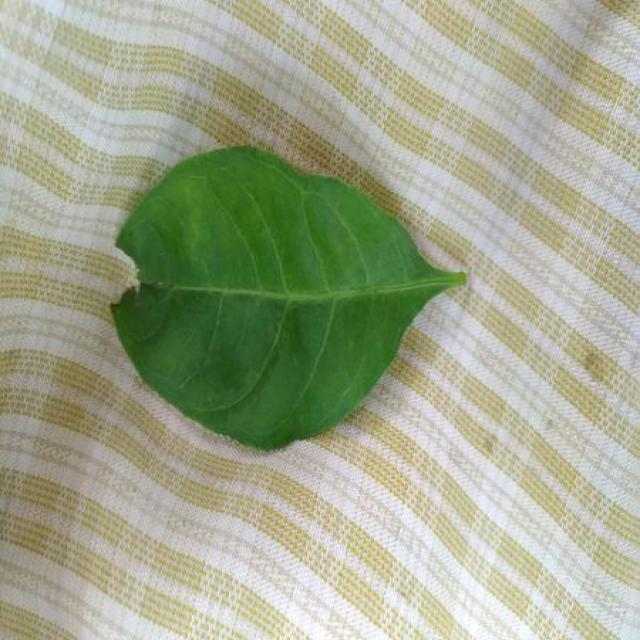henna: (112, 146, 465, 448)
